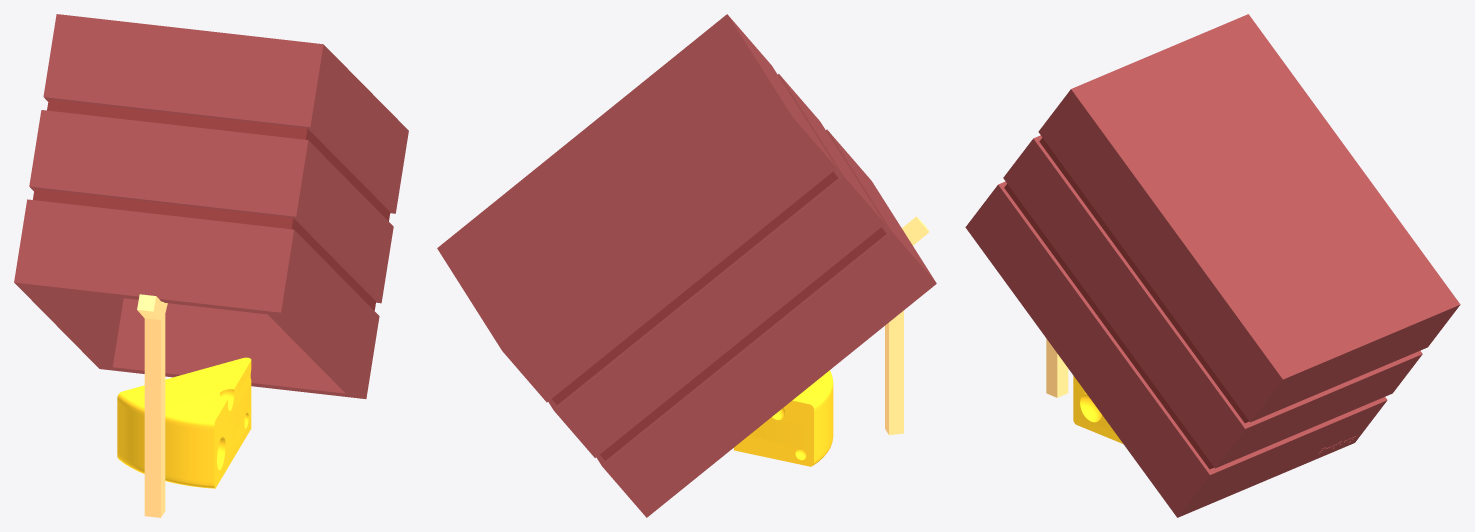
Rendered from mouse_trap.gltf.
The picture shows the model from 3 angles, left to right: view 1: azimuth 30°, elevation 25°; view 2: azimuth 150°, elevation 25°; view 3: azimuth 270°, elevation 25°; orthographic projection. The views are drawn at different scales.
Parts seen in each view (by area): view 1: Cube.1012; view 2: Cube.1012; view 3: Cube.1012.
Boxes of the visible parts, x1=… form: Cube.1012: x1=14, y1=14, x2=408, y2=517; Cube.1012: x1=437, y1=14, x2=936, y2=517; Cube.1012: x1=965, y1=14, x2=1460, y2=517.
Size of the model in its own units: 2.55 by 2.18 by 2.55.
1 material, 1 textured.
